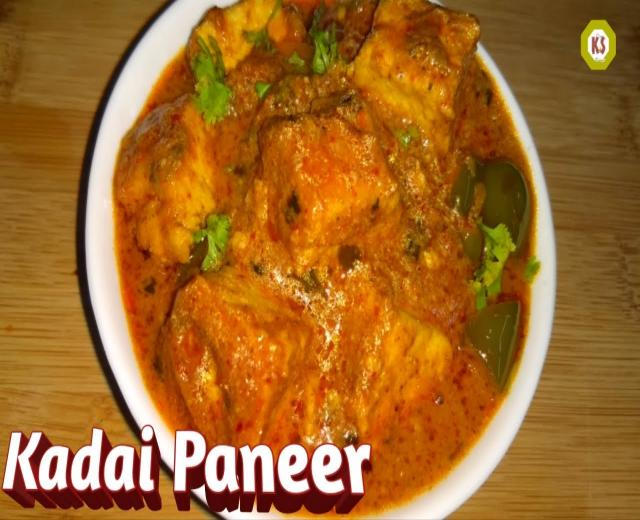fried rice: (112, 0, 542, 516)
